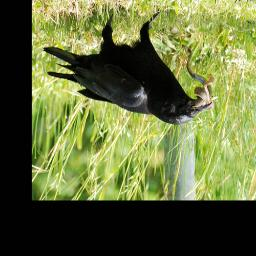Crow: (45, 10, 214, 125)
